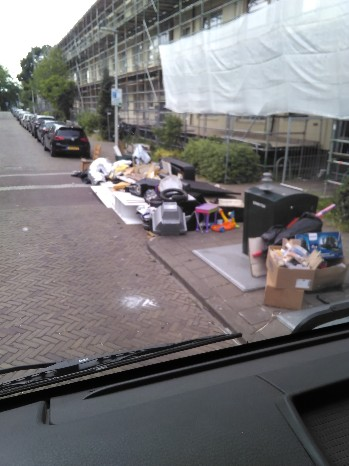Container: (246, 161, 310, 220)
Papier: (250, 257, 301, 309), (270, 237, 310, 285), (313, 245, 347, 292)
Rest: (153, 188, 189, 242), (116, 174, 152, 223), (291, 201, 335, 241), (183, 194, 216, 228), (118, 155, 157, 183), (96, 159, 119, 198), (192, 179, 222, 206), (218, 203, 229, 233)
Voertuig: (44, 125, 88, 161), (32, 120, 54, 139), (25, 110, 39, 128), (15, 107, 29, 121)
